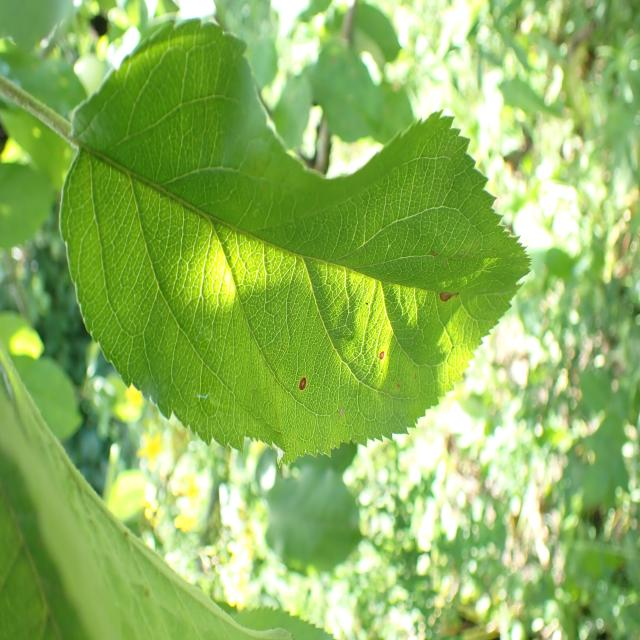Black Rot: (429, 276, 469, 319), (287, 367, 315, 408), (376, 345, 394, 369), (392, 375, 405, 400)
